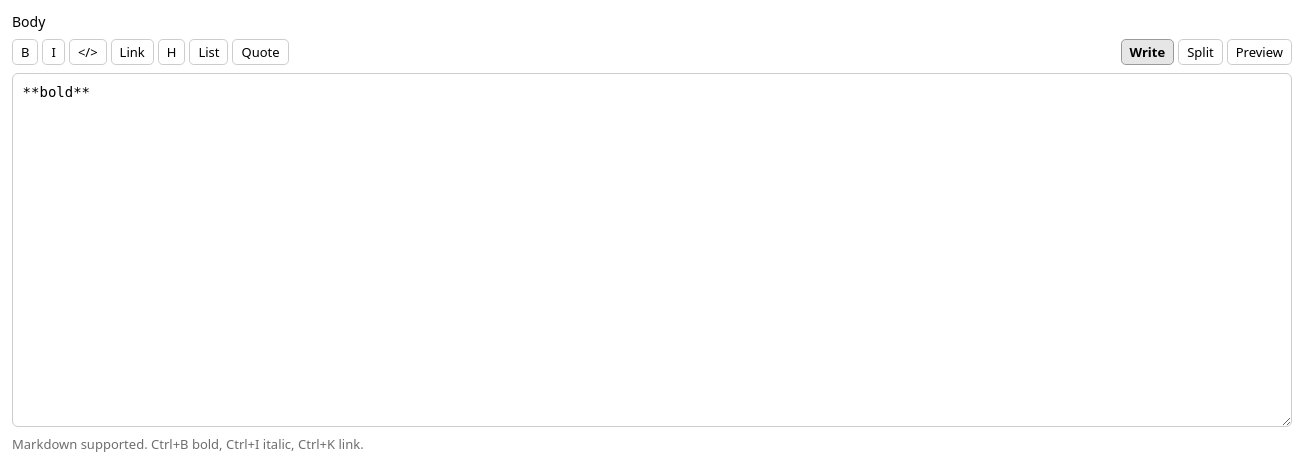
Scenario: MarkdownEditor › replaces the textarea with the rendered preview in preview mode
Click the button "Preview": coordinates (1259, 52) 1227,39 -> 1292,65
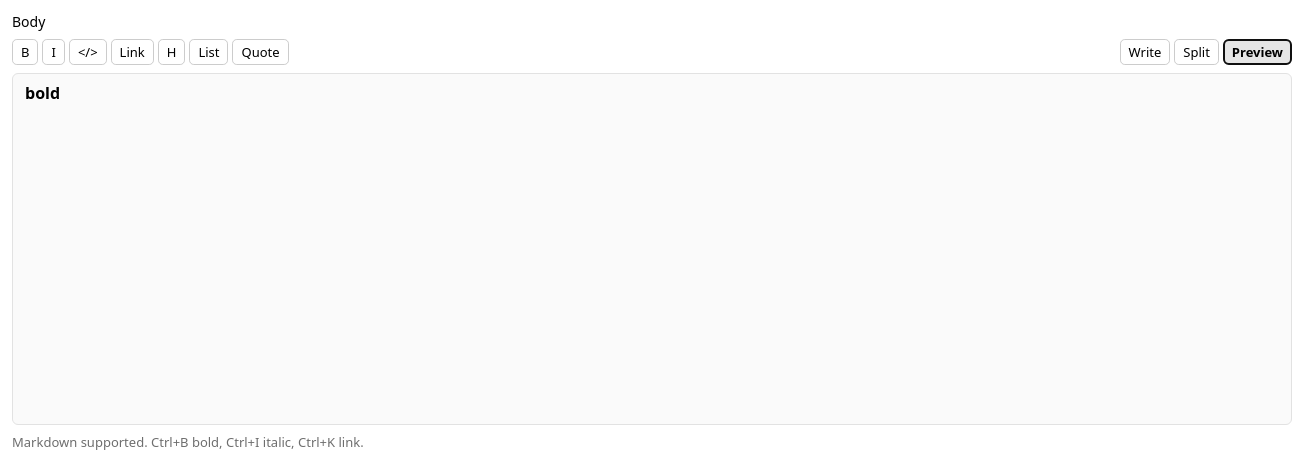
Expected: the text "bold" is shown, 25,82 -> 60,104
